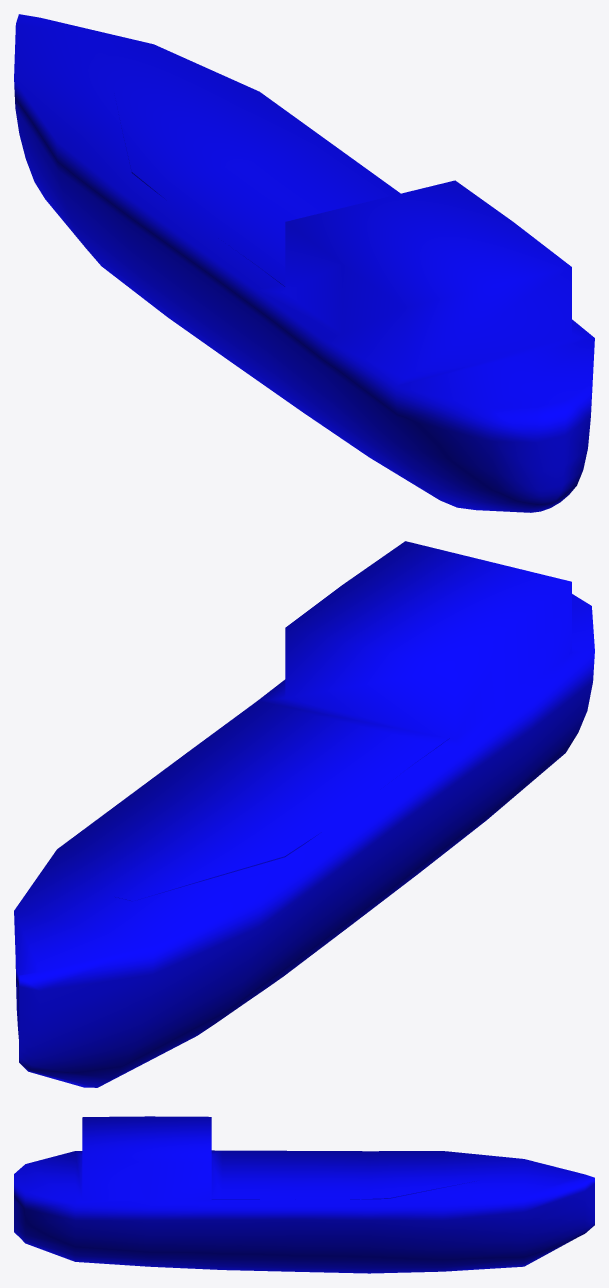
Rendered from boatBlue.gltf.
3 views of the same model, one above another, from view 1: azimuth 30°, elevation 25°; view 2: azimuth 150°, elevation 25°; view 3: azimuth 270°, elevation 25° (orthographic). The views are drawn at different scales.
Parts seen in each view (by area): view 1: Cylinder; view 2: Cylinder; view 3: Cylinder.
Part boxes in pixels (left/top/right/bottom): Cylinder: left=14, top=14, right=594, bottom=512; Cylinder: left=14, top=541, right=594, bottom=1087; Cylinder: left=14, top=1116, right=594, bottom=1273.
Bounding box in the file's own units: 3.05 × 3.31 × 13.31.
